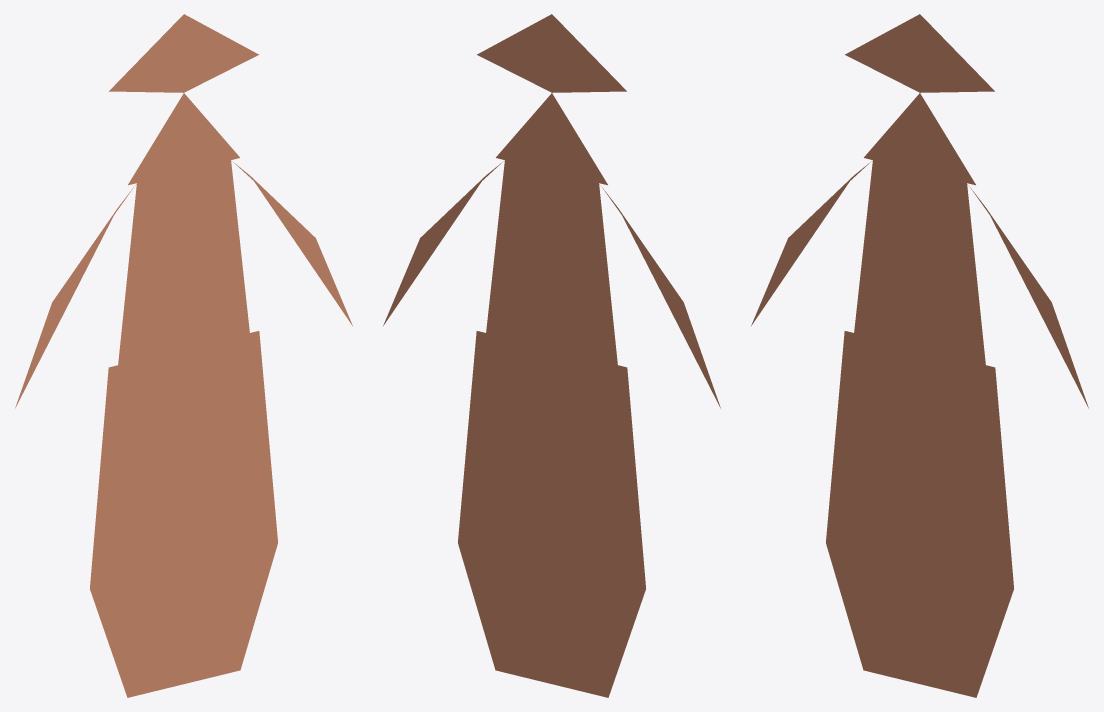
Rendered from tianjin_shadow_puppet.glb.
3 views of the same model, side by side, from view 1: azimuth 30°, elevation 25°; view 2: azimuth 150°, elevation 25°; view 3: azimuth 330°, elevation 25° (orthographic).
Visible parts, largest first — view 1: 津门皮影·文生可动骨骼数字模型; view 2: 津门皮影·文生可动骨骼数字模型; view 3: 津门皮影·文生可动骨骼数字模型.
Part boxes in pixels (bbox=[...]): 津门皮影·文生可动骨骼数字模型: bbox=[15, 14, 352, 697]; 津门皮影·文生可动骨骼数字模型: bbox=[383, 14, 720, 697]; 津门皮影·文生可动骨骼数字模型: bbox=[751, 14, 1088, 697].
Bounding box in the file's own units: 1.8 × 3.4 × 0.
